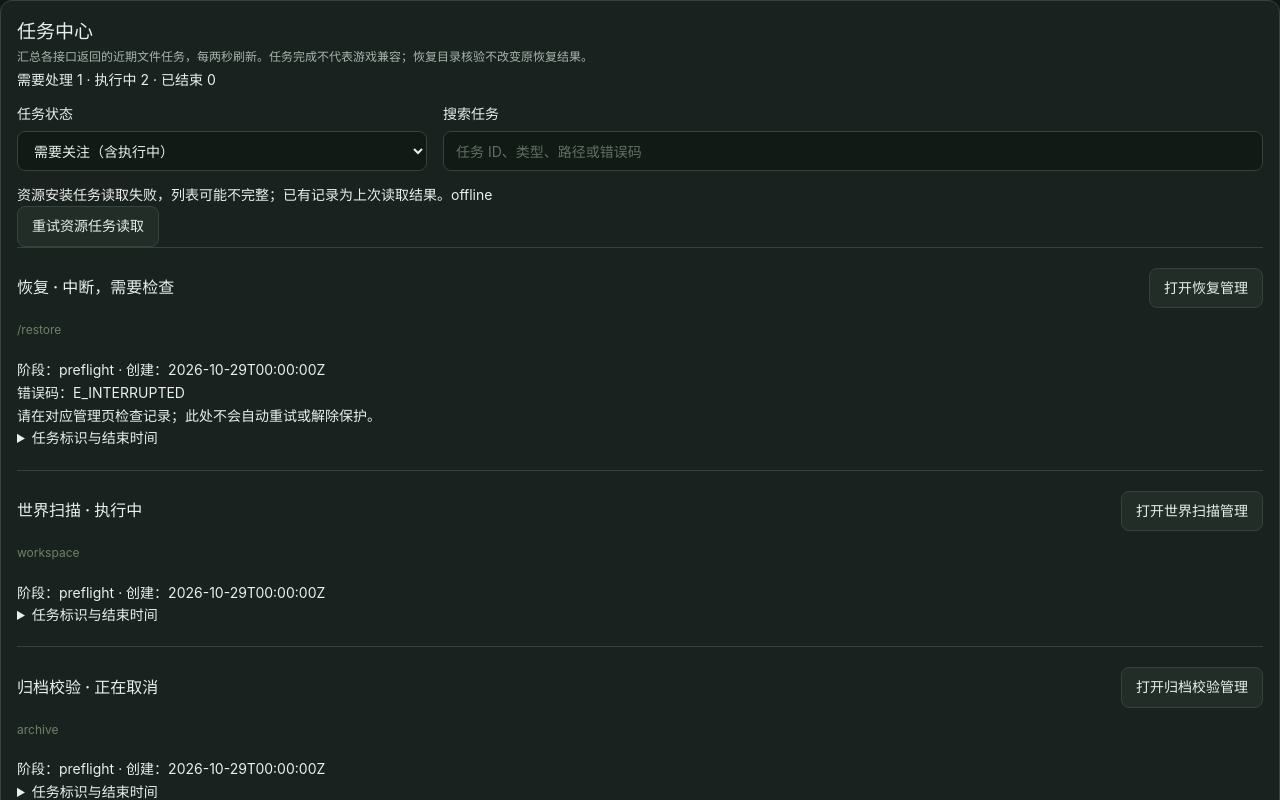
reports partial read failures and retries without hiding dashboard tasks
expect the message "资源安装任务读取失败，列表可能不完整；已有记录为上次读取结果。offline 重试资源任务读取" is shown: met, box x1=17 y1=186 x2=492 y2=247
Click the button "重试资源任务读取" at (88, 227), box x1=17 y1=206 x2=159 y2=247
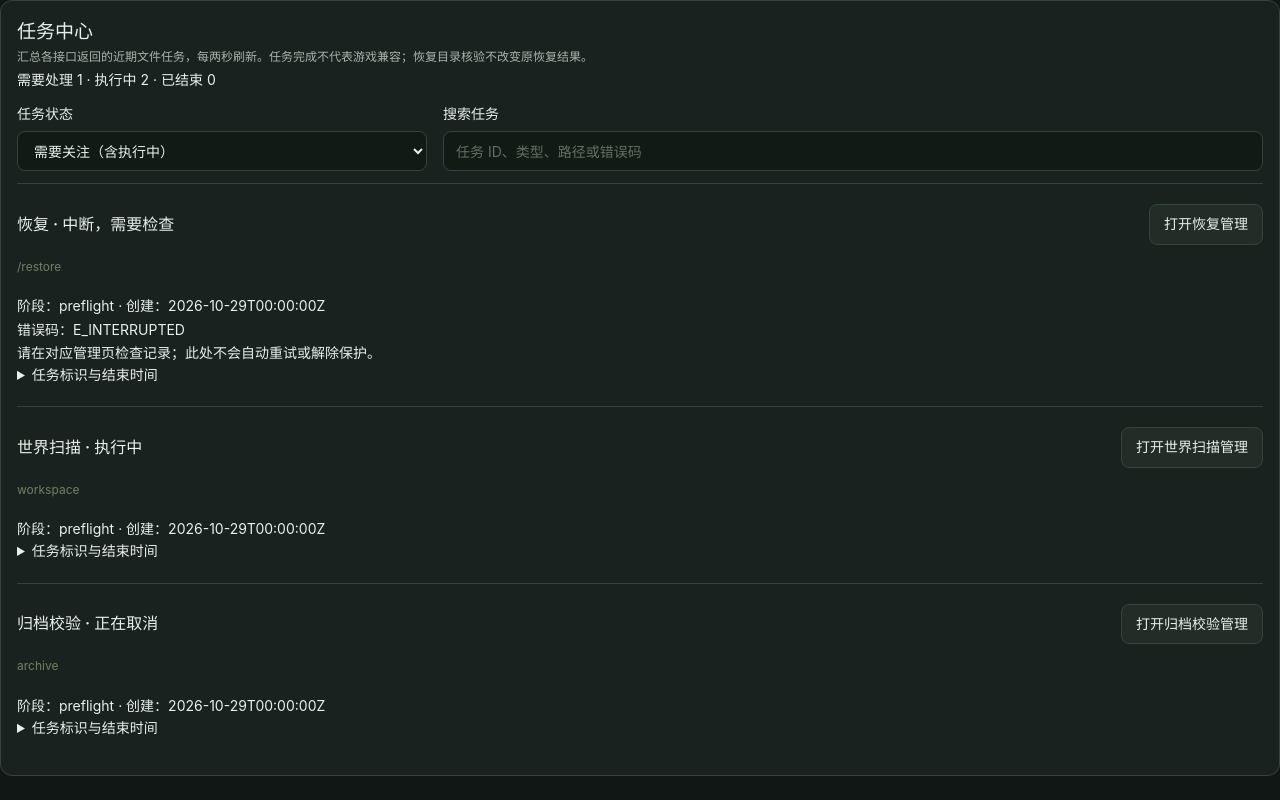
expect the text "需要处理 1 · 执行中 2 · 已结束 0" is shown: met, box x1=17 y1=71 x2=216 y2=88
expect the message "资源安装任务读取失败，列表可能不完整；已有记录为上次读取结果。offline 重试资源任务读取" is gone: met
